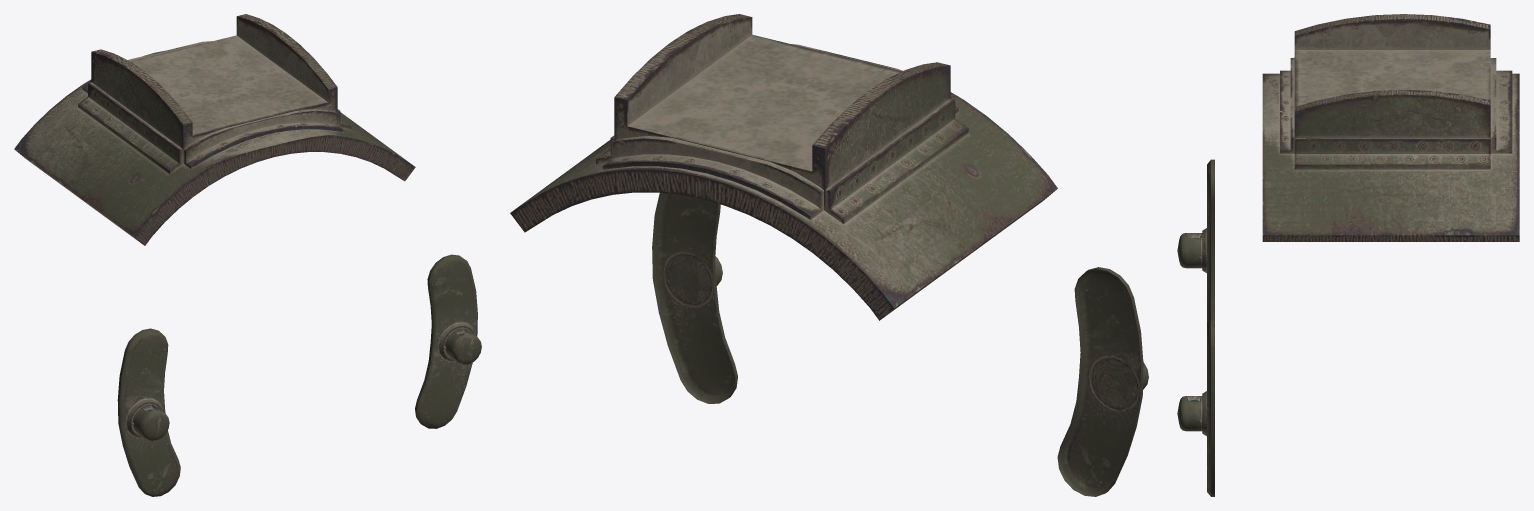
File: Turret_01.glb
3 views of the same model, side by side, from view 1: azimuth 30°, elevation 25°; view 2: azimuth 150°, elevation 25°; view 3: azimuth 270°, elevation 25° (orthographic). The views are drawn at different scales.
Parts seen in each view (by area): view 1: set_0_group_0; view 2: set_0_group_0; view 3: set_0_group_0.
Boxes of the visible parts, x1,y1,x2,y2 form: set_0_group_0: [14, 14, 481, 496]; set_0_group_0: [510, 14, 1148, 496]; set_0_group_0: [1177, 14, 1519, 496].
Bounding box in the file's own units: 1.74 × 1.59 × 1.34.
1 material, 1 textured.
